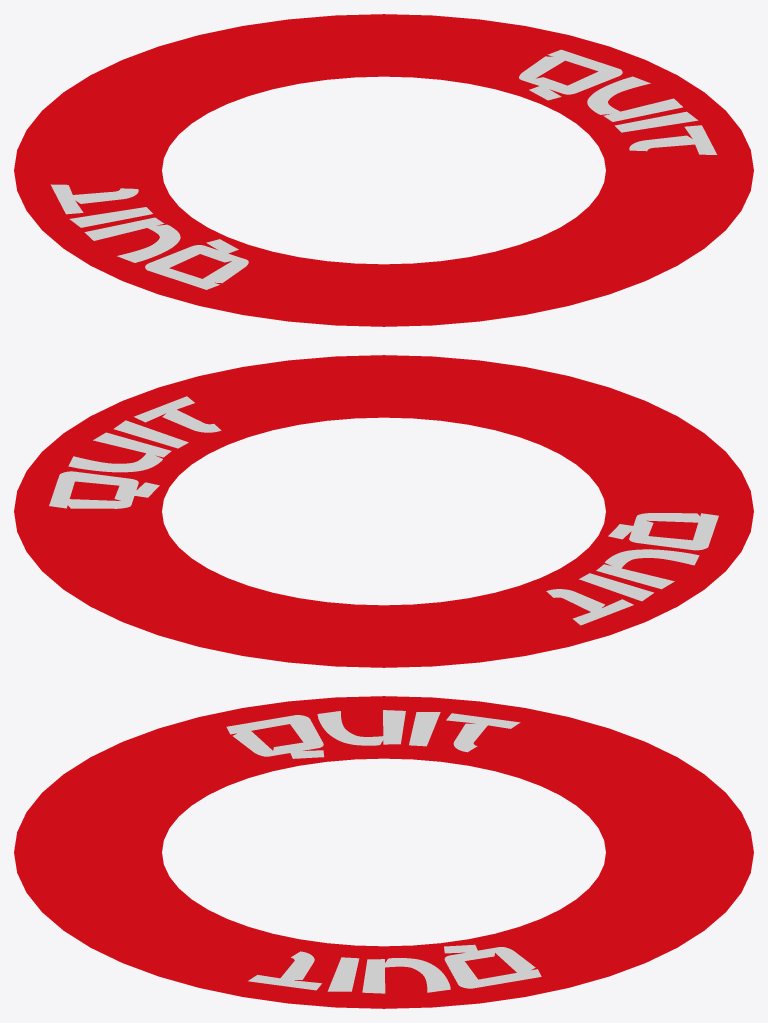
File: Circle_Quit.fbx
The picture shows the model from 3 angles, top to bottom: view 1: azimuth 30°, elevation 25°; view 2: azimuth 150°, elevation 25°; view 3: azimuth 270°, elevation 25°; orthographic projection.
Parts seen in each view (by area): view 1: Torus, Text.001, Text; view 2: Torus, Text, Text.001; view 3: Torus, Text.001, Text.
Part boxes in pixels (box(x1,y1,x2,y2)): Torus: box(14, 14, 753, 326); Text.001: box(50, 184, 248, 289); Text: box(519, 49, 717, 154); Torus: box(14, 355, 753, 667); Text: box(49, 396, 221, 508); Text.001: box(546, 513, 718, 625); Torus: box(14, 696, 753, 1008); Text.001: box(226, 710, 520, 758); Text: box(248, 944, 541, 993).
Bounding box in the file's own units: 1017 × 1 × 1017.
